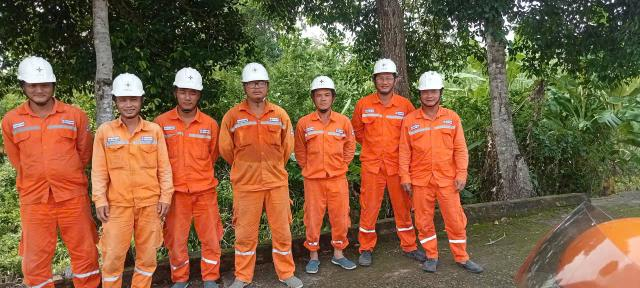helmet: (10, 53, 67, 91), (105, 71, 148, 99), (174, 64, 212, 94), (240, 60, 273, 87), (419, 69, 448, 93), (310, 72, 337, 97), (371, 59, 399, 74)
shoes: (452, 254, 485, 274), (354, 243, 378, 269), (276, 268, 306, 288), (400, 242, 427, 264), (332, 250, 354, 273), (300, 256, 324, 276), (228, 272, 256, 288), (425, 250, 441, 278), (198, 274, 224, 288), (170, 278, 194, 288)
